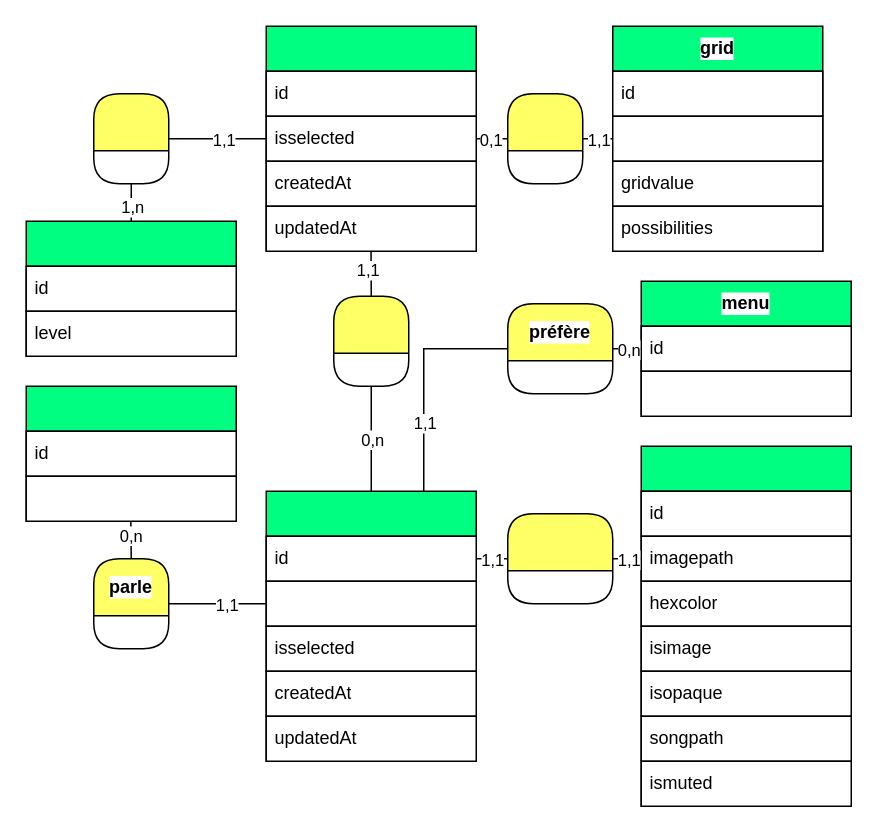
Some shapes in this 878 by 833 pixel diagram are drawn without their labels. Here are the shapes that lost their labels. From the top down, the box of each, then its label:
(92, 92, 169, 184): contient
(265, 25, 476, 251): game
(506, 92, 583, 184): affiche
(611, 115, 823, 161): defaultgridvalue
(25, 220, 236, 356): game_level
(332, 295, 409, 386): joue
(640, 370, 851, 416): mode
(25, 385, 236, 521): player_language
(25, 475, 236, 521): ISO
(506, 512, 613, 604): applique
(265, 580, 476, 626): name
(265, 490, 476, 761): player
(640, 445, 851, 806): options
